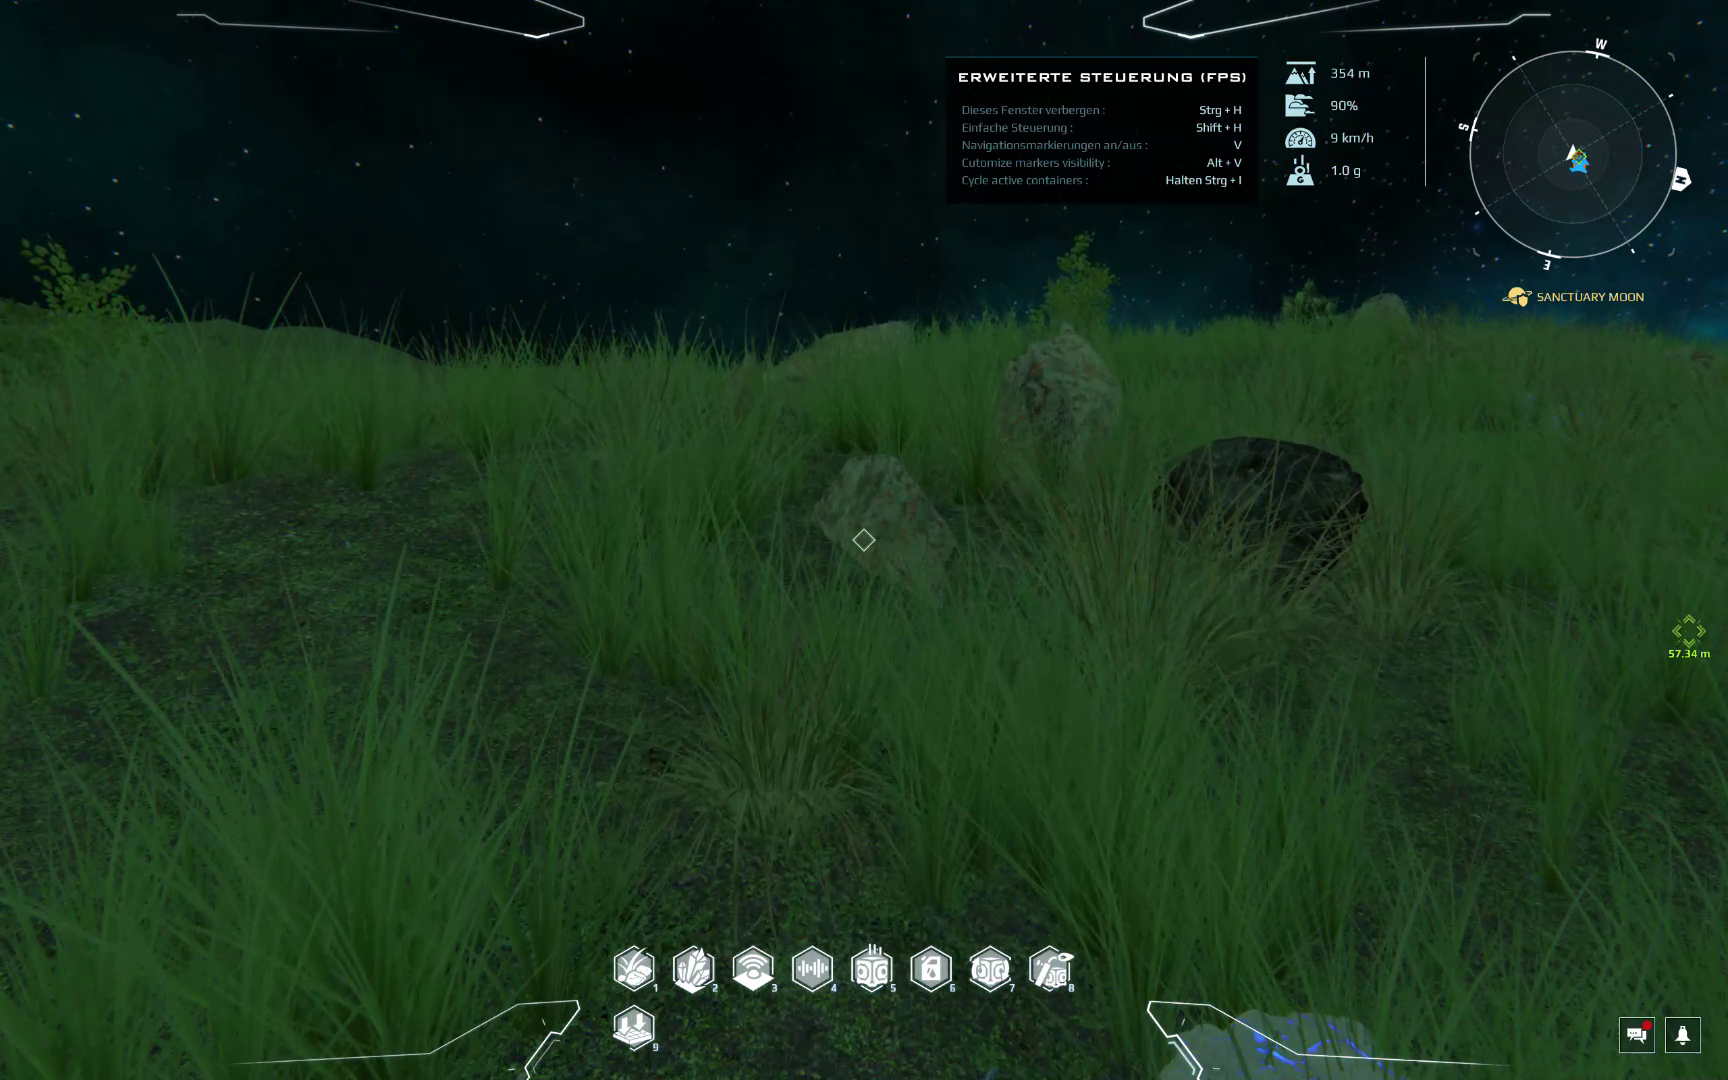Ore: (1151, 435, 1373, 584), (811, 450, 959, 608), (1138, 1002, 1395, 1080), (995, 332, 1120, 470), (766, 316, 914, 382)
